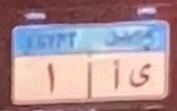1: (45, 62, 58, 93)
alif: (110, 58, 123, 90)
yaa: (129, 61, 152, 89)
